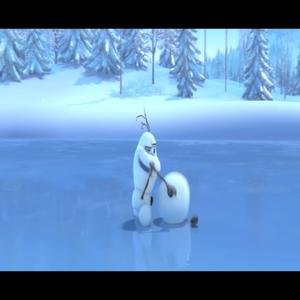olaf: (125, 98, 197, 241)
